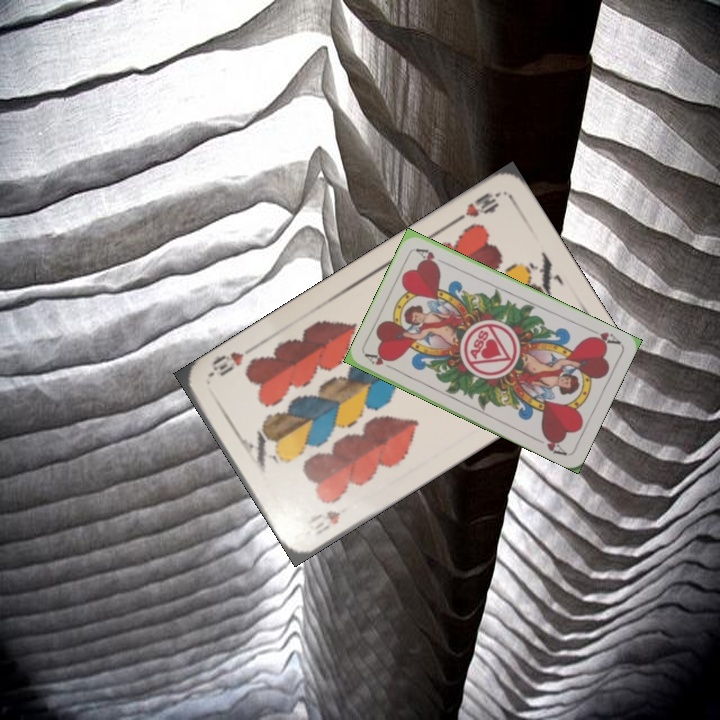H10: (450, 188, 503, 226), (302, 506, 343, 538)
HA: (583, 324, 623, 348), (362, 350, 401, 374)
